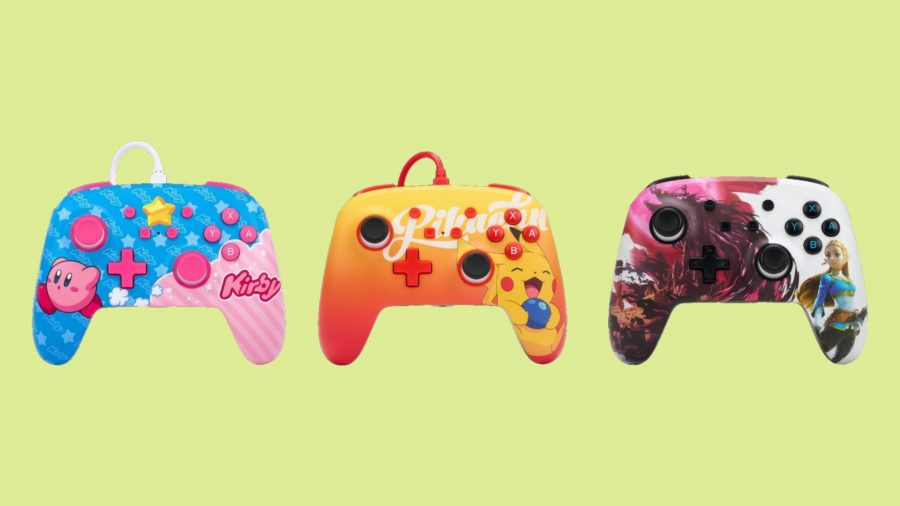controller: (607, 173, 870, 366), (31, 181, 289, 366), (317, 184, 568, 366)
